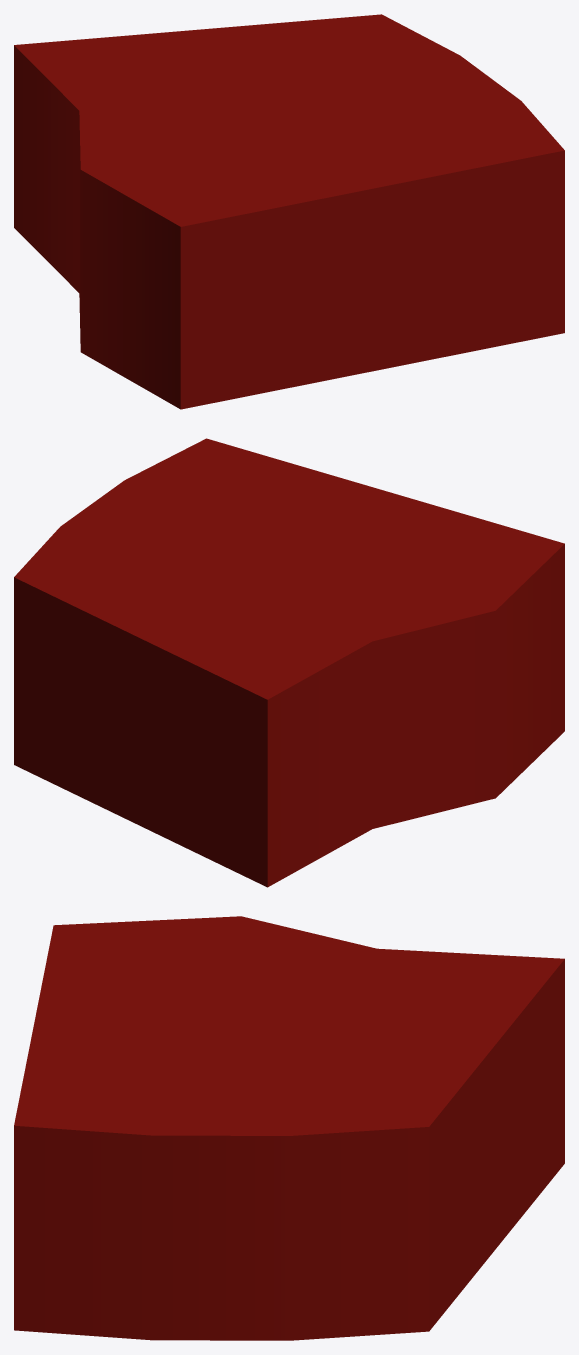
File: Steak_Piece4.FBX
3 renders of one model, top to bottom at view 1: azimuth 30°, elevation 25°; view 2: azimuth 150°, elevation 25°; view 3: azimuth 270°, elevation 25°, orthographic. The views are drawn at different scales.
Parts seen in each view (by area): view 1: Steak_Piece4; view 2: Steak_Piece4; view 3: Steak_Piece4.
Part boxes in pixels (x1,y1,x2,y2): Steak_Piece4: [14, 14, 564, 409]; Steak_Piece4: [14, 438, 564, 887]; Steak_Piece4: [14, 916, 564, 1340].
Size of the model in its own units: 793 by 840 by 344.
